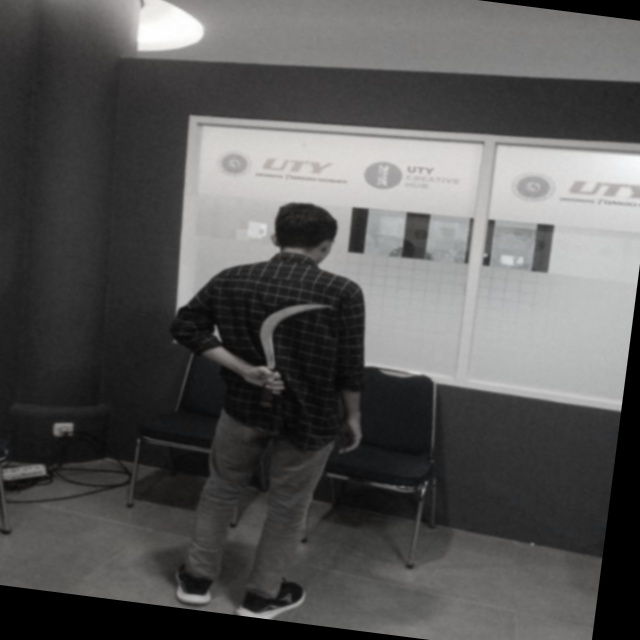Sharp-Object: (234, 293, 332, 405)
